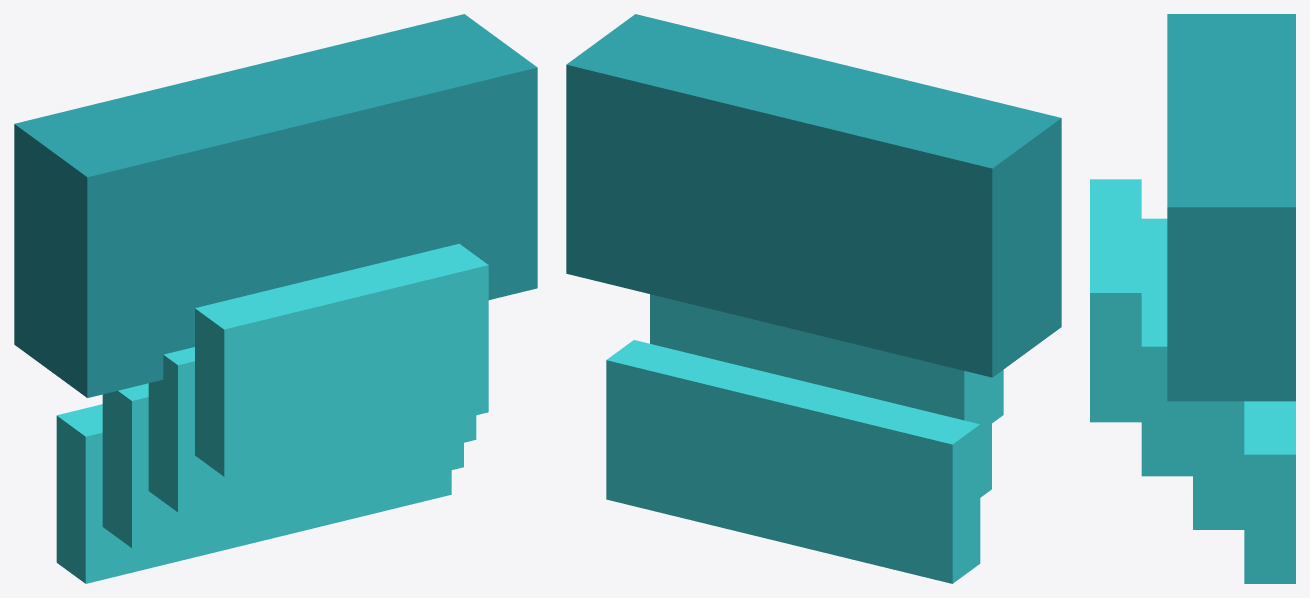
File: front-steps-landing.glb
3 views of the same model, side by side, from view 1: azimuth 30°, elevation 25°; view 2: azimuth 150°, elevation 25°; view 3: azimuth 270°, elevation 25° (orthographic). The views are drawn at different scales.
Visible parts, largest first — view 1: world; view 2: world; view 3: world.
Part boxes in pixels (x1=…): world: x1=14, y1=14, x2=537, y2=583; world: x1=566, y1=14, x2=1061, y2=583; world: x1=1090, y1=14, x2=1295, y2=583.
Size of the model in its own units: 1.6 by 1.53 by 0.72.
